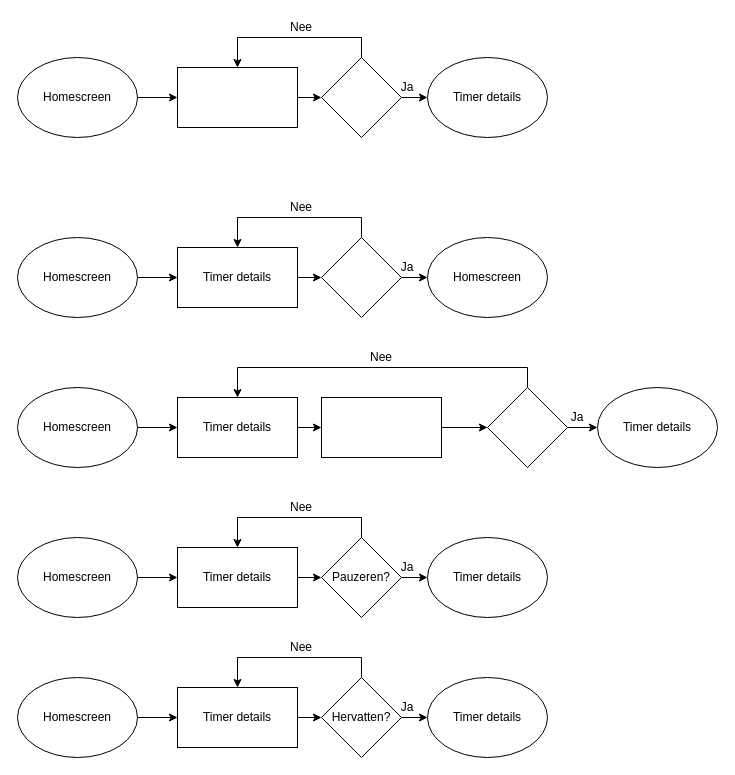
Some shapes in this 735 by 775 pixel diagram are drawn without their labels. Each missing label, with the centre of its shape:
Gegevens invullen: (237,97)
Herberekenen?: (527,427)
Timer herberekenen: (381,427)
Timer zeker toevoegen?: (361,97)
Timer zeker verwijderen?: (361,277)
